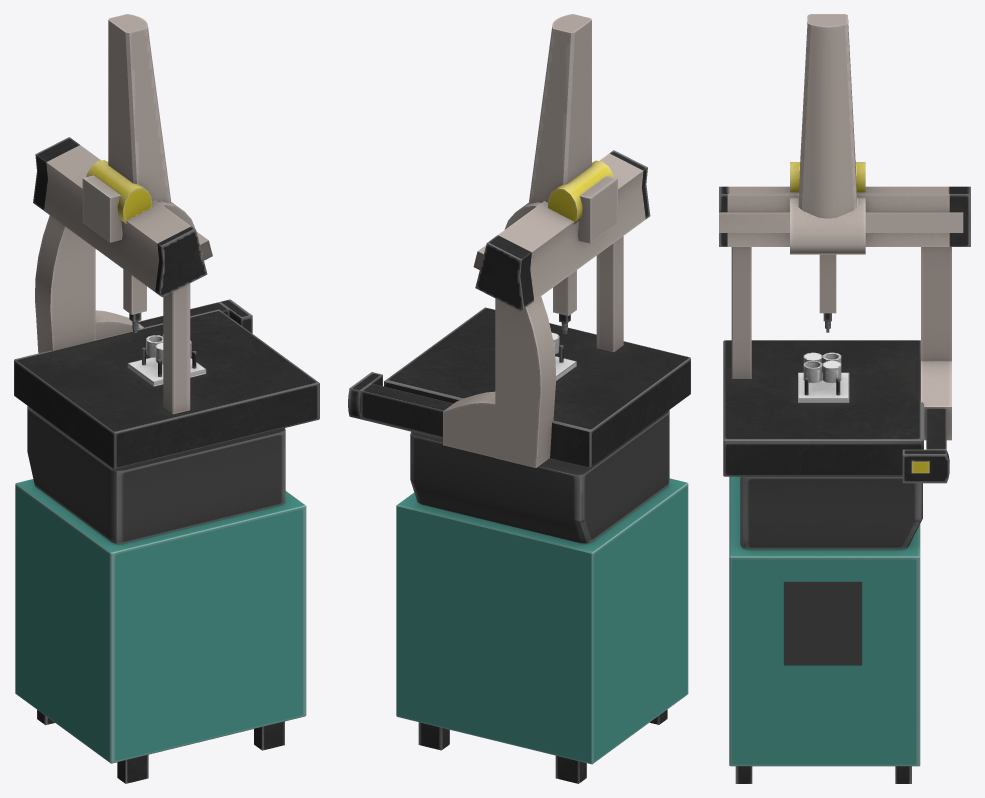
File: sanzuobiaoceliangyi.fbx
3 renders of one model, left to right at view 1: azimuth 30°, elevation 25°; view 2: azimuth 150°, elevation 25°; view 3: azimuth 270°, elevation 25°, orthographic.
Parts seen in each view (by area): view 1: sanzuobiaoceliangyi; view 2: sanzuobiaoceliangyi; view 3: sanzuobiaoceliangyi.
Boxes of the visible parts, x1,y1,x2,y2 form: sanzuobiaoceliangyi: (14, 14, 319, 783); sanzuobiaoceliangyi: (348, 14, 690, 783); sanzuobiaoceliangyi: (719, 14, 970, 783).
Bounding box in the file's own units: 2.11 × 6.21 × 1.99.
